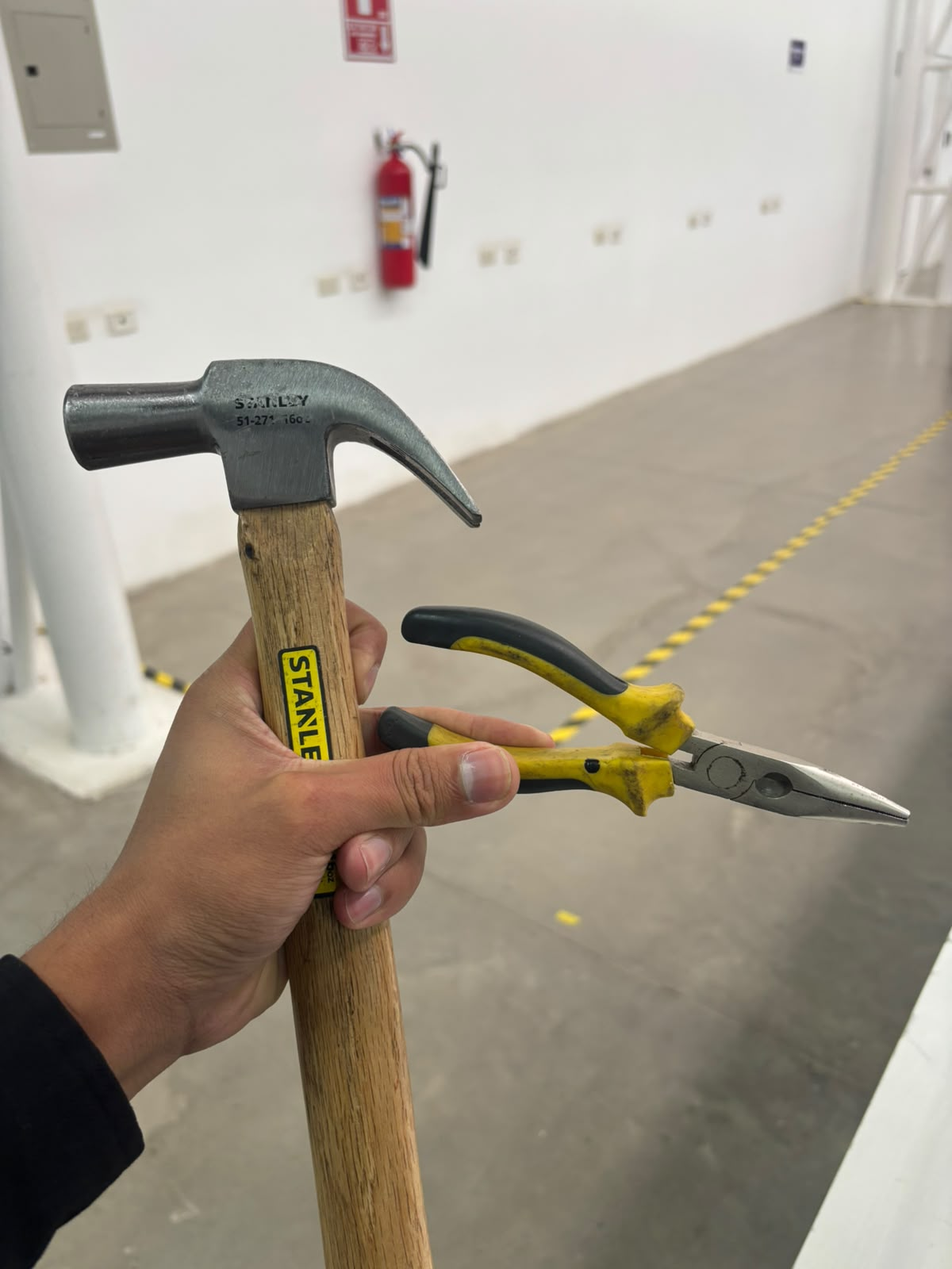hammer: (17, 358, 475, 1267)
plier: (410, 584, 917, 891)
